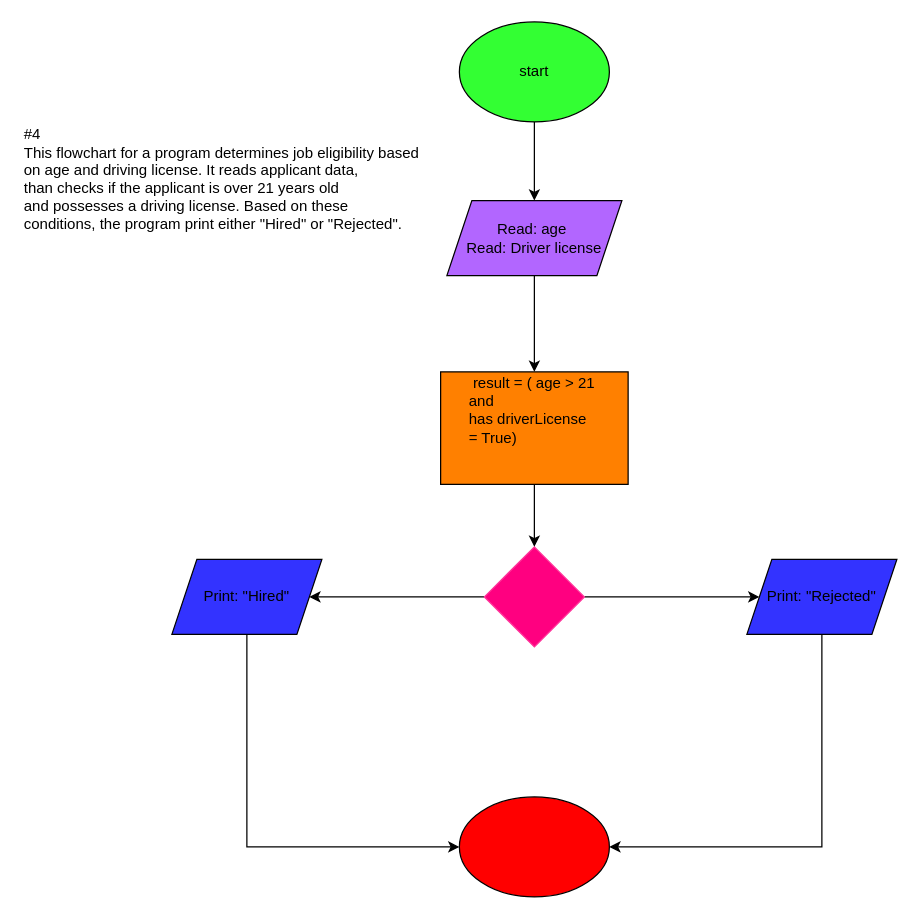
Image size: 919x919. Some labels were removed from this diagram. Each missing label, with the centre of its shape:
"End" goes at pixel 533 846.
"result = True" goes at pixel 533 596.
